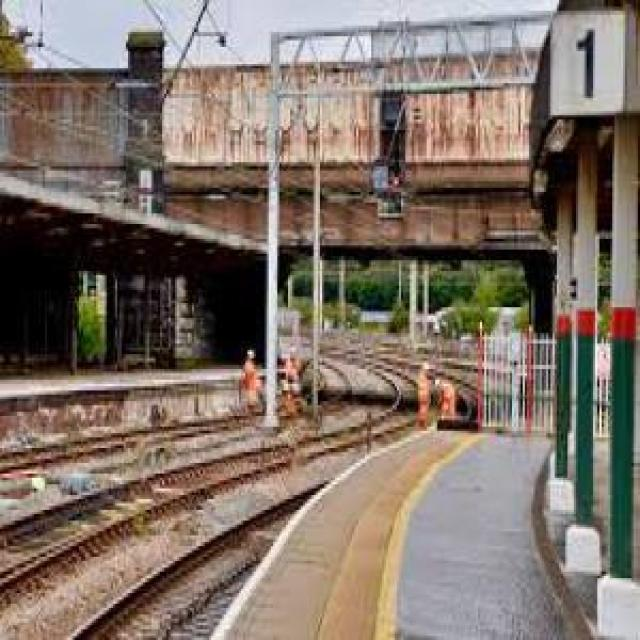danger: (239, 342, 316, 419), (406, 361, 463, 434)
rail: (0, 330, 500, 640)
